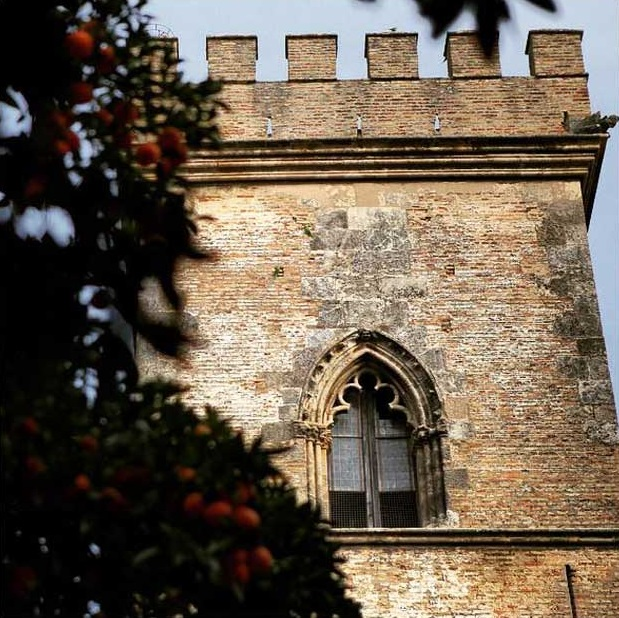arco-apuntado: (308, 346, 433, 435)
